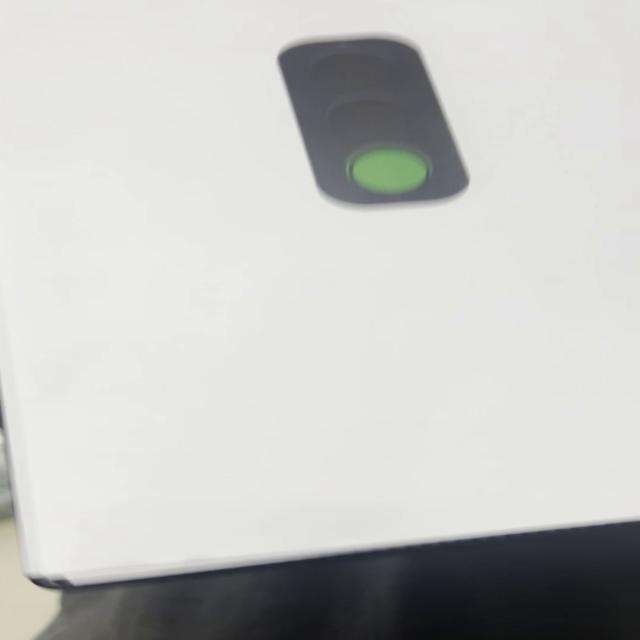green: (279, 35, 478, 219)
